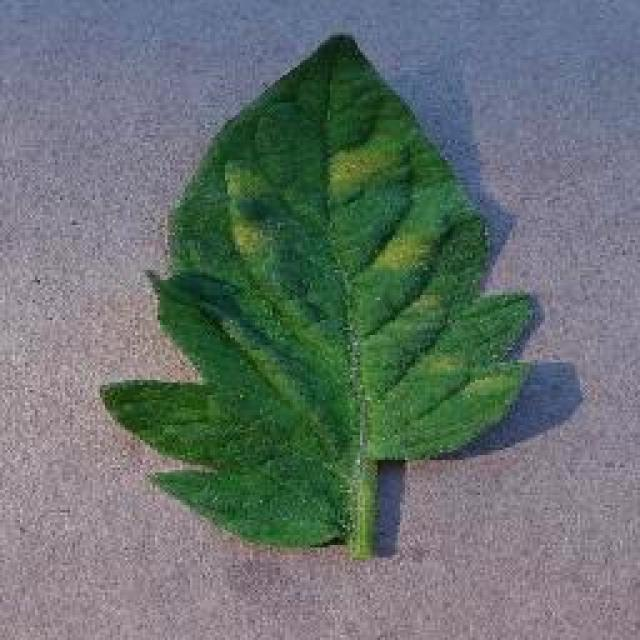Tomato mold leaf: (96, 30, 538, 548)
